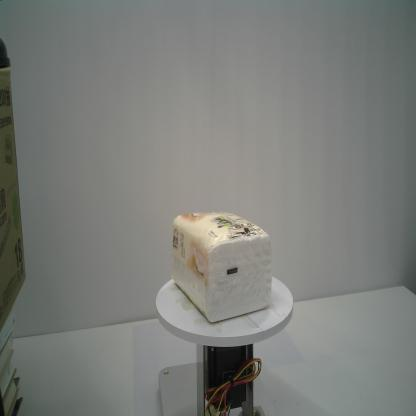Tissue: (168, 208, 274, 324)
